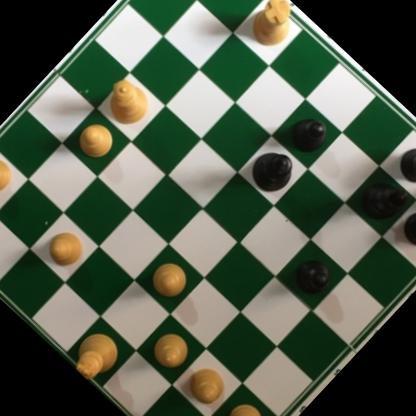black-bishop: (351, 165, 413, 228)
black-king: (241, 138, 306, 202)
black-knight: (388, 127, 416, 196)
black-pawn: (282, 108, 333, 160), (288, 252, 337, 302), (397, 202, 416, 255)
white-king: (64, 321, 130, 387)
white-pawn: (68, 114, 124, 170), (38, 220, 94, 276), (143, 324, 198, 379), (179, 359, 233, 413), (144, 255, 194, 306), (216, 393, 273, 416), (0, 146, 23, 201)
white-queen: (94, 69, 158, 132)
white-rook: (238, 0, 305, 56)
